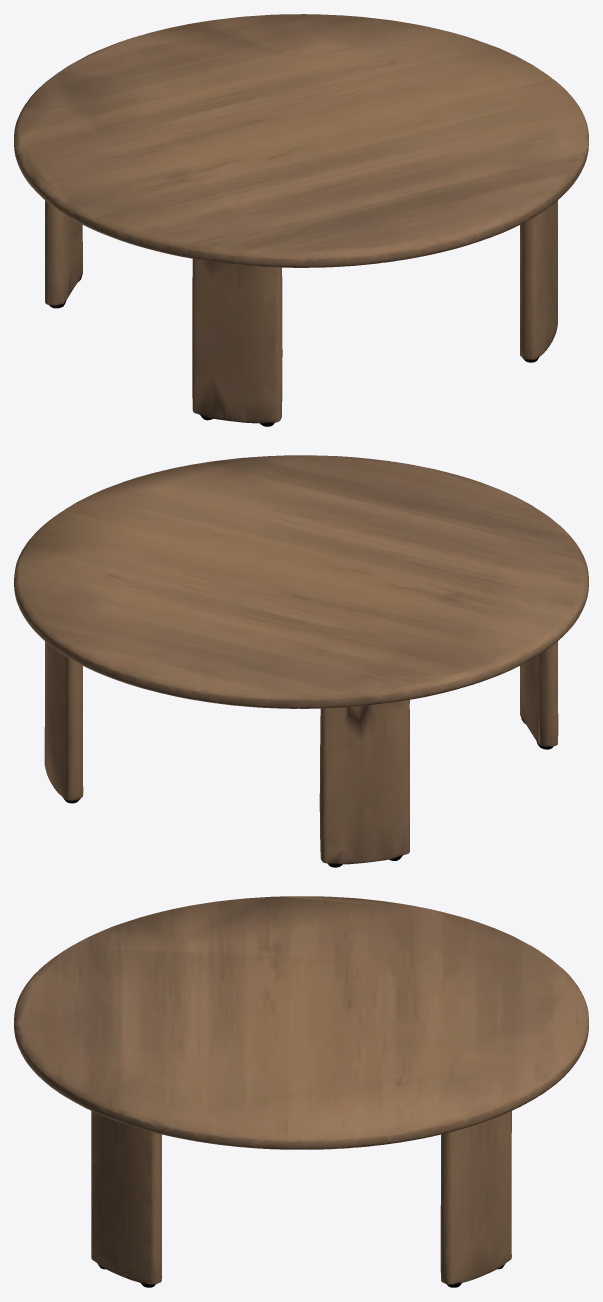
The model's file is rFIICl5TVNaJqRBl72qhd.glb.
3 renders of one model, top to bottom at view 1: azimuth 30°, elevation 25°; view 2: azimuth 150°, elevation 25°; view 3: azimuth 270°, elevation 25°, orthographic.
Visible parts, largest first — view 1: geometry_0; view 2: geometry_0; view 3: geometry_0.
Part boxes in pixels (x1,y1,x2,y2): geometry_0: (14, 14, 588, 426); geometry_0: (14, 455, 588, 867); geometry_0: (14, 896, 588, 1287).
Size of the model in its own units: 1 by 0.3616 by 1.
Materials: 1 (1 with a texture image).
